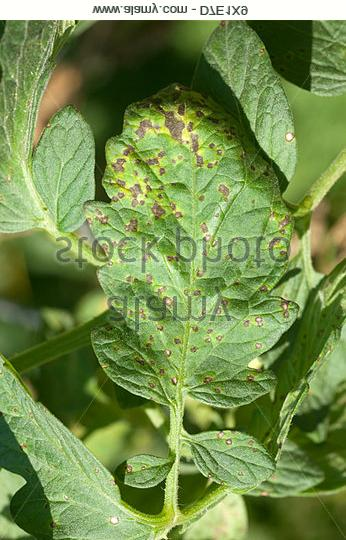Tomato Septoria leaf spot: (86, 77, 313, 411)
